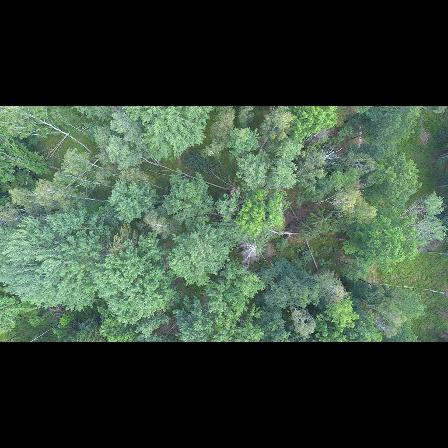Dead: (37, 132, 69, 166), (394, 196, 433, 223), (238, 235, 267, 266), (311, 187, 348, 211), (315, 144, 343, 172)
